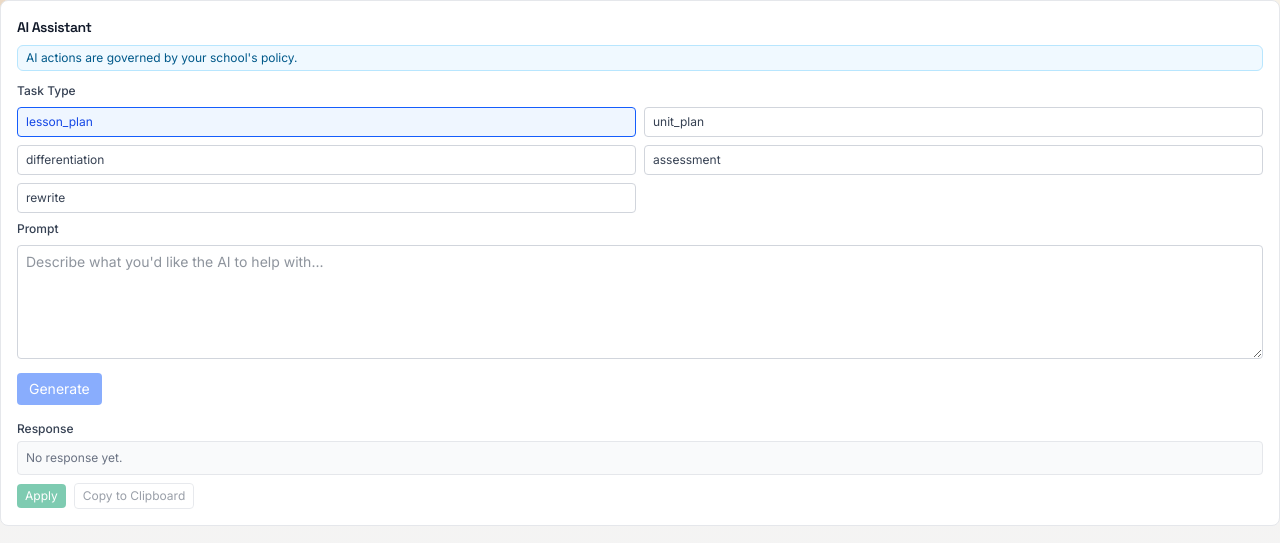
Test: AiAssistantPanel › displays streamed tokens incrementally
The width and height of the screenshot is (1280, 543).
Check: the button "lesson_plan" is enabled, box x1=17 y1=107 x2=636 y2=137
In the text box with placeholder "Describe what you'd like the AI to help with...": (640, 302) x1=17 y1=245 x2=1263 y2=359, type "Generate"
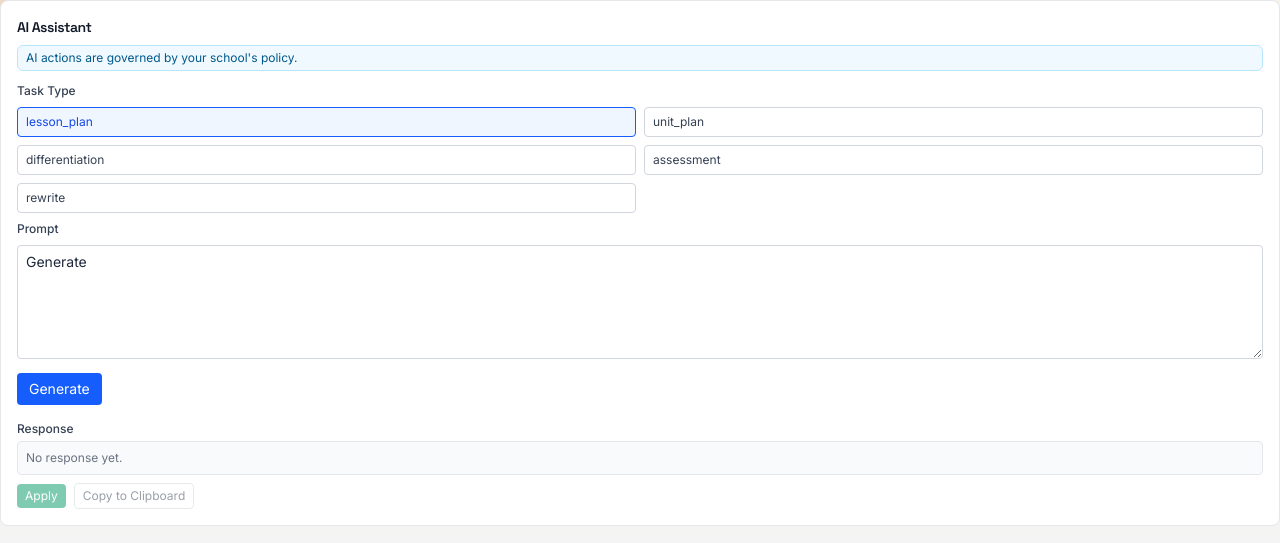
Click the button "Generate": (59, 389) x1=17 y1=373 x2=102 y2=405
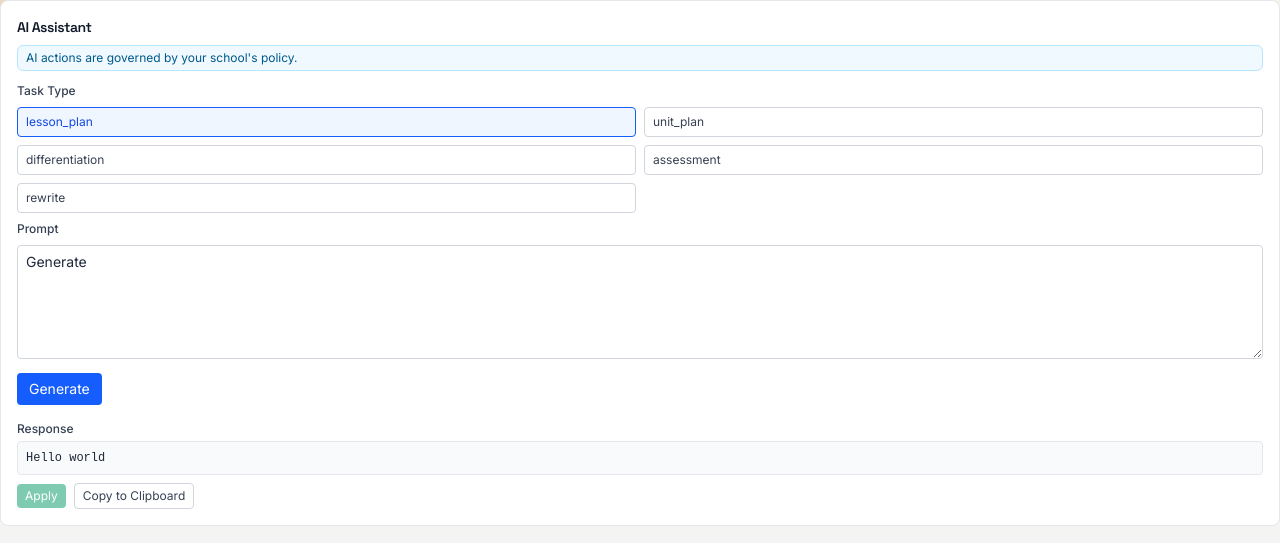
Check: the text "Hello world" is shown, box x1=26 y1=451 x2=105 y2=465
